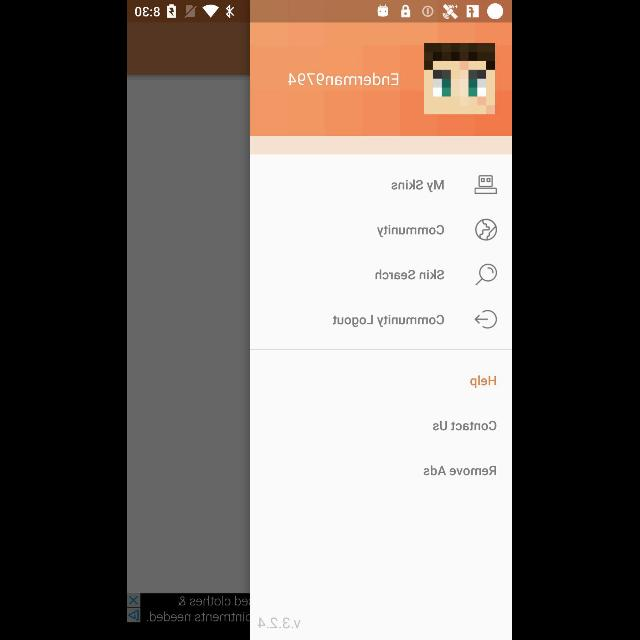icon: (476, 264, 498, 286), (474, 310, 498, 328)
image: (424, 44, 496, 114), (476, 219, 498, 241), (474, 176, 498, 194)
panel: (252, 22, 512, 640)
text: (333, 314, 445, 328), (288, 72, 399, 86), (378, 225, 444, 238), (424, 466, 498, 476), (392, 179, 444, 193), (433, 421, 497, 432), (376, 270, 444, 280), (258, 617, 302, 629), (471, 376, 497, 388)
uppertaskbar: (128, 1, 512, 23)
